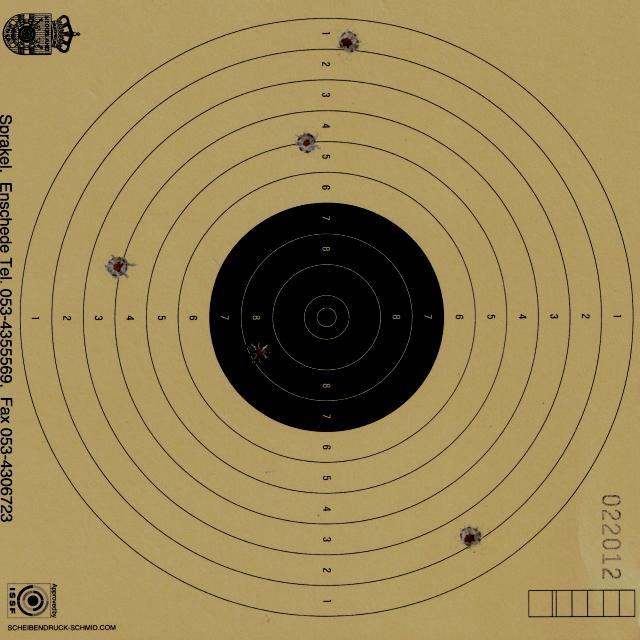2: (459, 525, 484, 550), (336, 32, 362, 52)
4: (103, 254, 136, 281)
5: (292, 132, 320, 154)
8: (244, 341, 271, 365)
Target: (15, 16, 636, 620)
black_contour: (208, 202, 444, 432)
